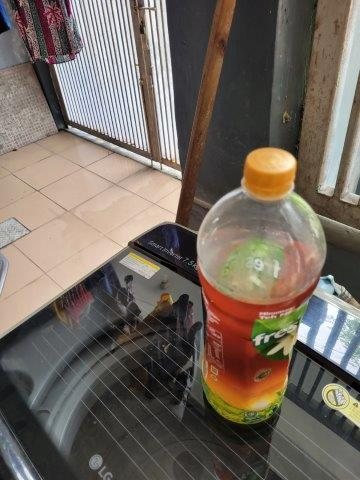botolplastik: (194, 148, 328, 423)
